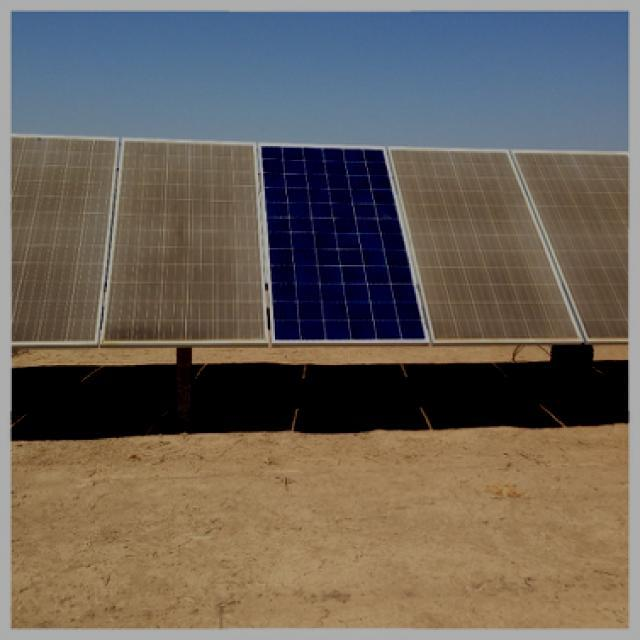faulty: (390, 147, 581, 343), (101, 138, 269, 343), (12, 135, 119, 344), (514, 151, 630, 341)
no faulty: (259, 144, 429, 344)
